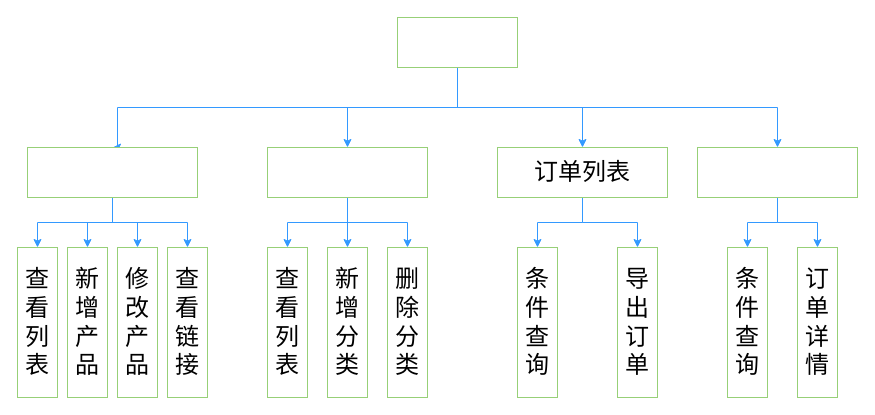
The diagram is 875 pixels wide and 415 high, and some of its shapes have lost their labels. The centre of each missing label's shape, as x and y in pixels:
"产品分类" belongs at (x=347, y=172).
"产品列表" belongs at (x=112, y=172).
"产品管理" belongs at (x=457, y=42).
"产品结算" belongs at (x=777, y=172).
